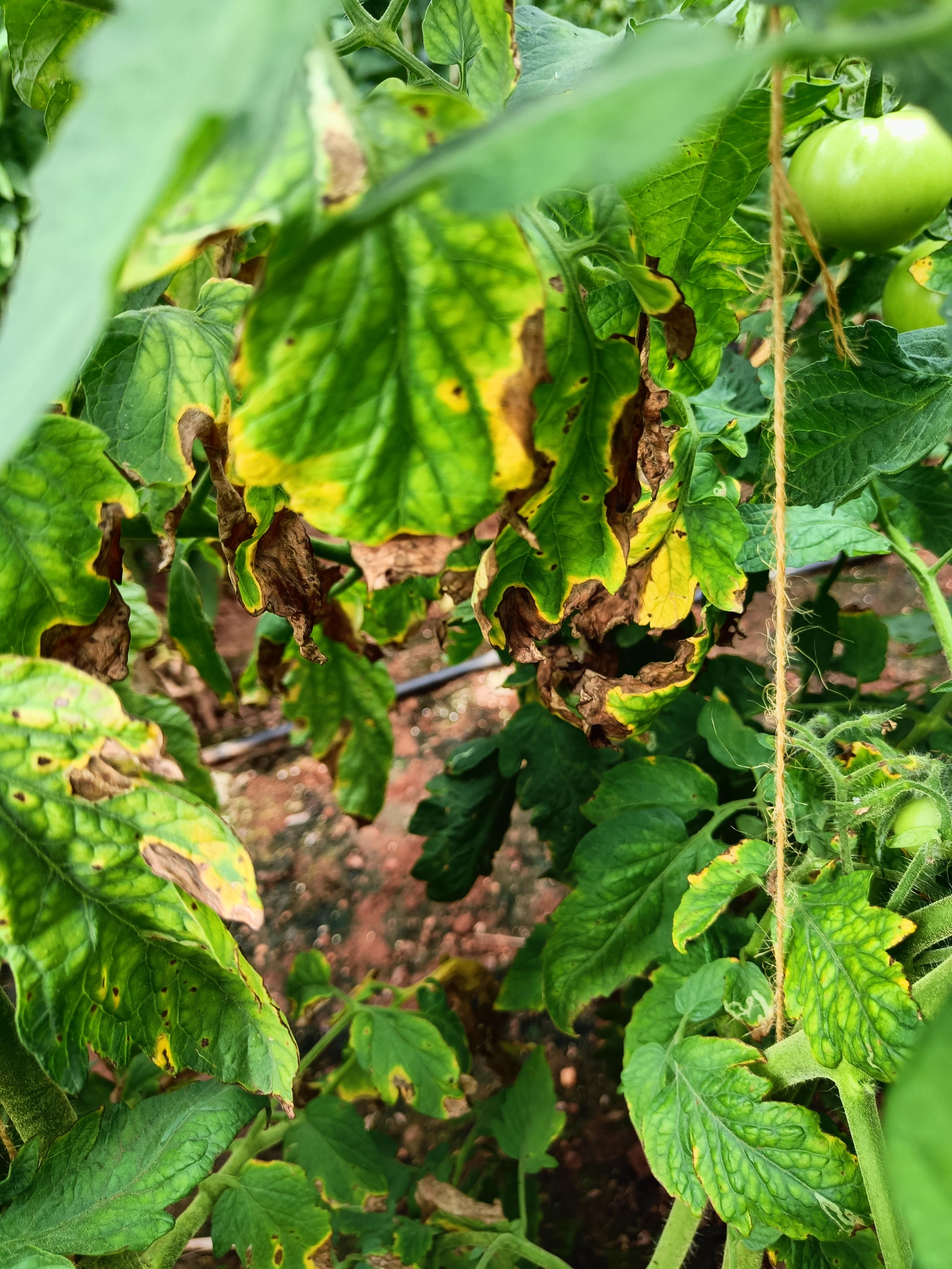Early Blight: (118, 74, 556, 590), (0, 657, 308, 1119), (470, 330, 757, 751), (74, 302, 223, 574), (2, 414, 138, 701), (206, 1159, 344, 1269), (349, 1001, 474, 1120)
